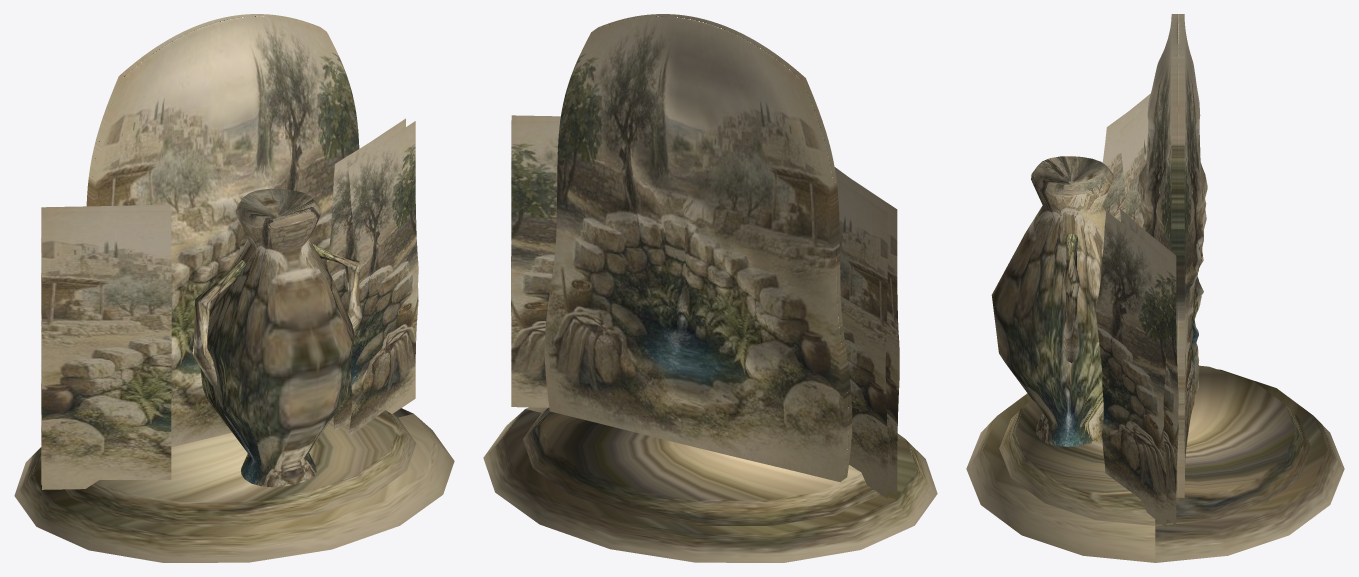
File: the-beginning-of-wisdom-6.glb
3 renders of one model, left to right at view 1: azimuth 30°, elevation 25°; view 2: azimuth 150°, elevation 25°; view 3: azimuth 270°, elevation 25°, orthographic. The views are drawn at different scales.
Parts seen in each view (by area): view 1: PaintingSculptureMonument; view 2: PaintingSculptureMonument; view 3: PaintingSculptureMonument.
Boxes of the visible parts, box(x1,y1,x2,y2) form: PaintingSculptureMonument: box(14, 14, 454, 562); PaintingSculptureMonument: box(483, 14, 937, 562); PaintingSculptureMonument: box(966, 14, 1344, 562).
Size of the model in its own units: 2.76 by 2.99 by 2.35.
1 material, 1 textured.
